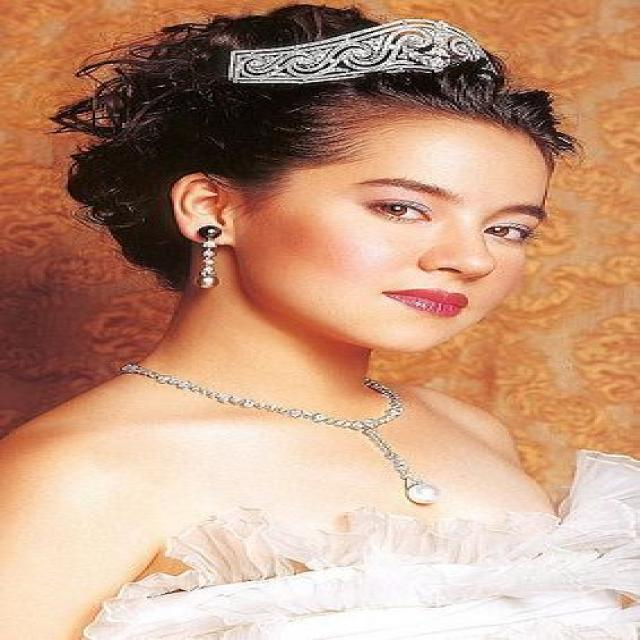Earring: (186, 226, 249, 304)
